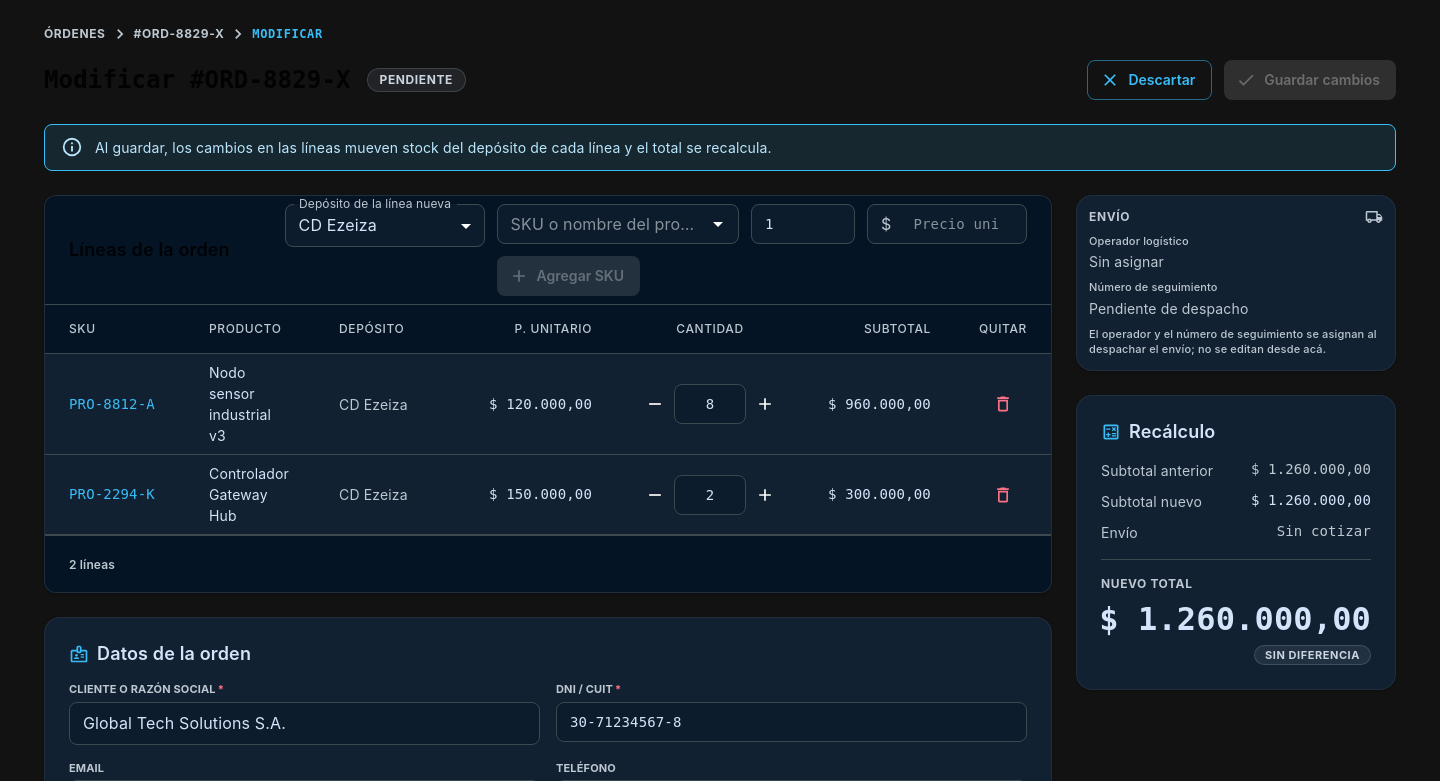
Test: OrderEditPage › blocks saving with a missing customer
Clear the field labelled "Cliente o razón social". click: (304, 723)
box: top-left (69, 702), bottom-right (540, 745)
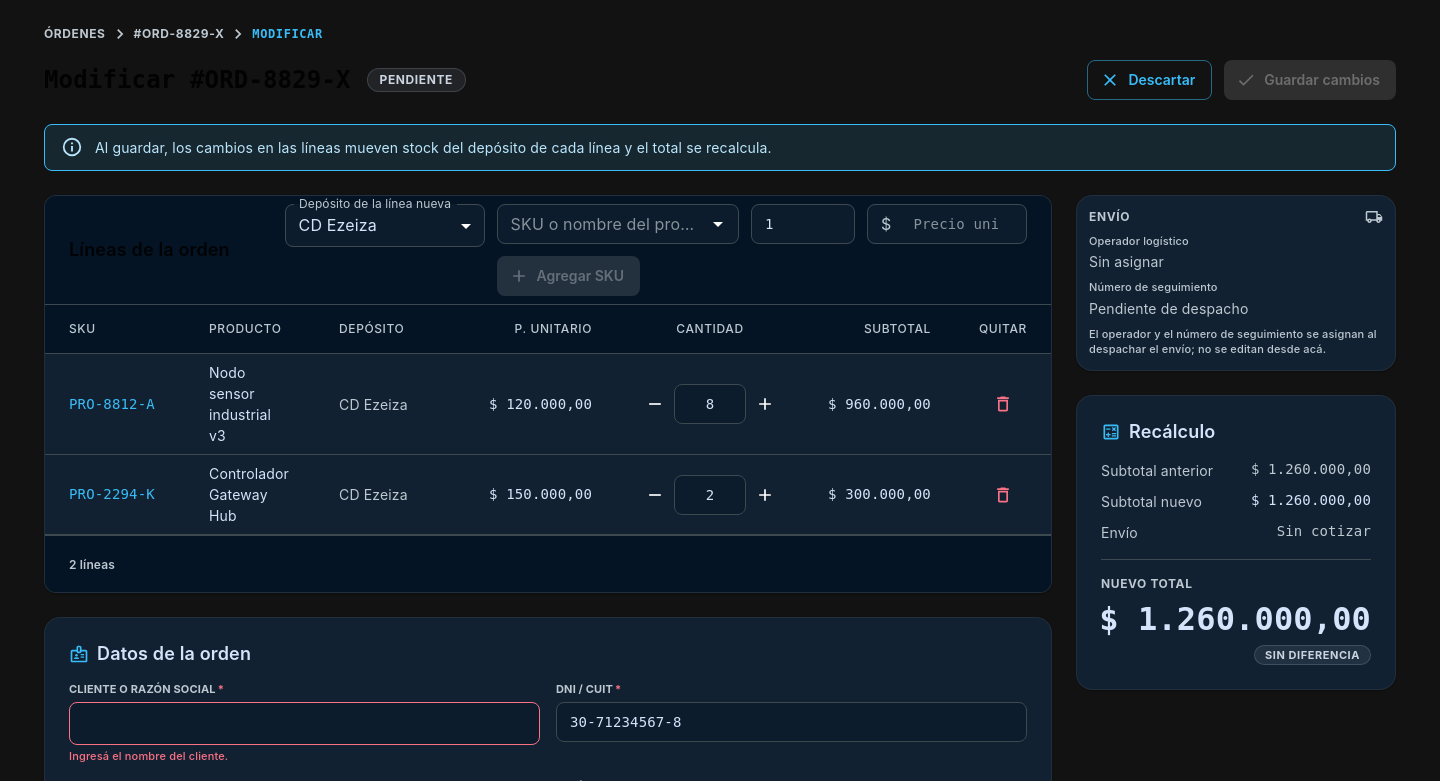
Expected: the button "Guardar cambios" is disabled, top-left (1224, 60), bottom-right (1396, 100)
Expected: the text "Ingresá el nombre del cliente." is shown, top-left (69, 749), bottom-right (228, 763)
